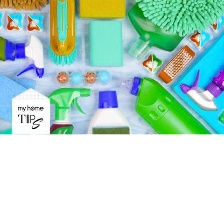cleaning_solution: (114, 74, 222, 161), (40, 84, 91, 198), (84, 86, 133, 204), (124, 0, 216, 62), (177, 58, 224, 111), (0, 31, 47, 81)
